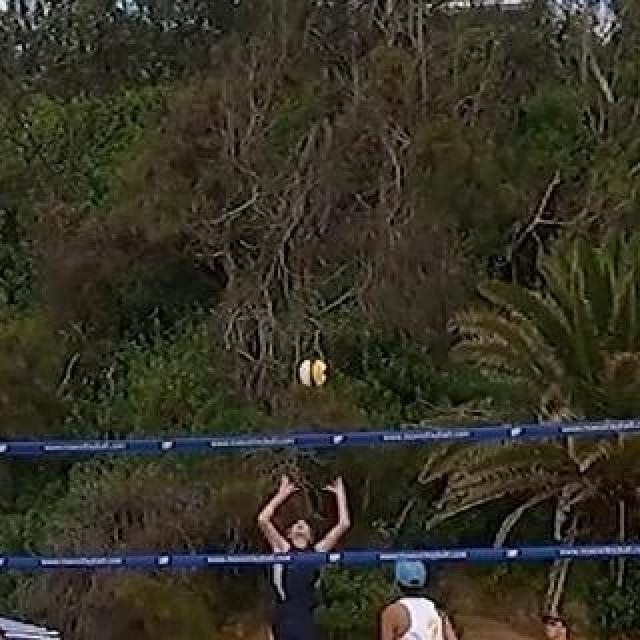volleyball: (297, 360, 327, 388)
